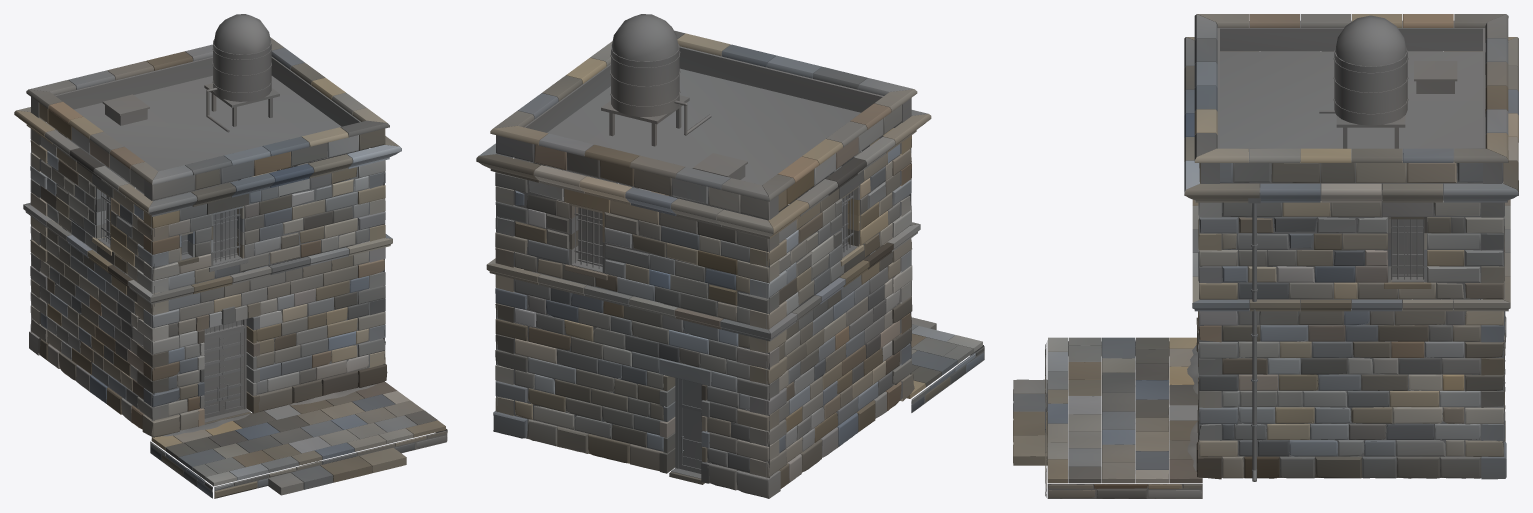
File: AirWater_LOD0.glb
3 renders of one model, left to right at view 1: azimuth 30°, elevation 25°; view 2: azimuth 150°, elevation 25°; view 3: azimuth 270°, elevation 25°, orthographic. The views are drawn at different scales.
Parts seen in each view (by area): view 1: AirWater_Masonry_LOD0, AirWater_Trim_LOD0, AirWater_Porch_LOD0, AirWater_Roof_LOD0, AirWater_Metal_LOD0, AirWater_Glass_LOD0, AirWater_Sand_LOD0; view 2: AirWater_Masonry_LOD0, AirWater_Trim_LOD0, AirWater_Roof_LOD0, AirWater_Metal_LOD0, AirWater_Porch_LOD0, AirWater_Glass_LOD0; view 3: AirWater_Masonry_LOD0, AirWater_Trim_LOD0, AirWater_Porch_LOD0, AirWater_Roof_LOD0, AirWater_Metal_LOD0, AirWater_Glass_LOD0, AirWater_Sand_LOD0.
Boxes of the visible parts, <box> form: AirWater_Masonry_LOD0: <box>29,56,387,437</box>; AirWater_Trim_LOD0: <box>14,37,401,426</box>; AirWater_Porch_LOD0: <box>150,381,447,498</box>; AirWater_Roof_LOD0: <box>74,75,341,171</box>; AirWater_Metal_LOD0: <box>98,14,298,422</box>; AirWater_Glass_LOD0: <box>107,165,296,333</box>; AirWater_Sand_LOD0: <box>98,237,376,436</box>; AirWater_Masonry_LOD0: <box>493,46,914,498</box>; AirWater_Trim_LOD0: <box>476,30,931,483</box>; AirWater_Roof_LOD0: <box>547,68,860,185</box>; AirWater_Metal_LOD0: <box>545,14,859,478</box>; AirWater_Porch_LOD0: <box>669,317,984,484</box>; AirWater_Glass_LOD0: <box>547,166,859,283</box>; AirWater_Masonry_LOD0: <box>1196,20,1506,479</box>; AirWater_Trim_LOD0: <box>1184,14,1518,391</box>; AirWater_Porch_LOD0: <box>1013,337,1202,498</box>; AirWater_Roof_LOD0: <box>1220,51,1482,152</box>; AirWater_Metal_LOD0: <box>1248,15,1482,481</box>; AirWater_Glass_LOD0: <box>1392,219,1422,274</box>; AirWater_Sand_LOD0: <box>1187,277,1424,471</box>.
Bounding box in the file's own units: 8.46 × 11.11 × 11.73.
